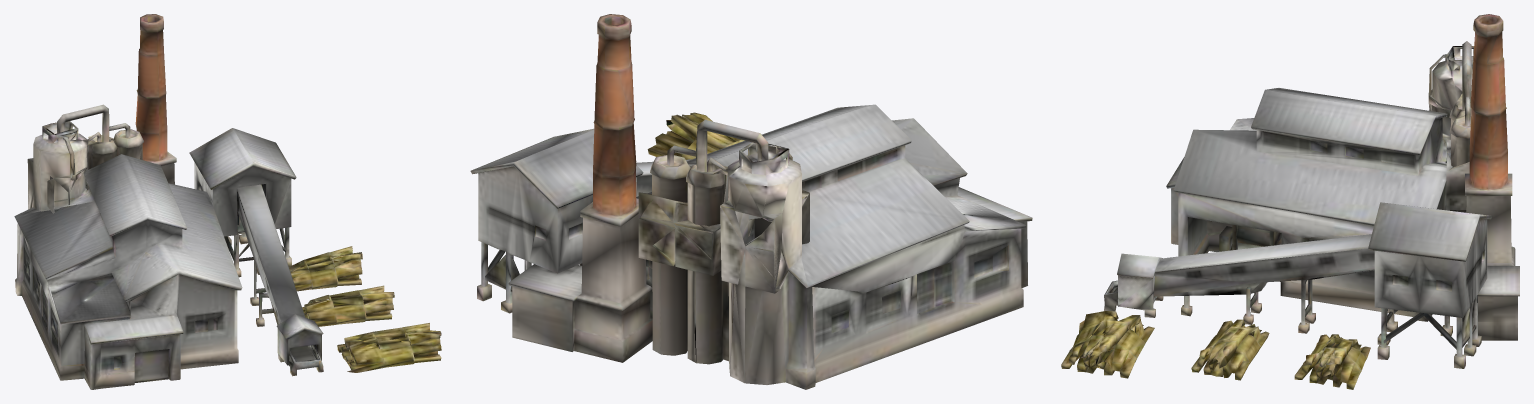
The model's file is sugar.glb.
3 renders of one model, left to right at view 1: azimuth 30°, elevation 25°; view 2: azimuth 150°, elevation 25°; view 3: azimuth 270°, elevation 25°, orthographic. The views are drawn at different scales.
Visible parts, largest first — view 1: sugar; view 2: sugar; view 3: sugar.
Boxes of the visible parts, bbox=[...] form: sugar: bbox=[14, 14, 441, 389]; sugar: bbox=[470, 14, 1032, 389]; sugar: bbox=[1061, 14, 1519, 389].
Bounding box in the file's own units: 1 × 0.6687 × 0.9724.
1 material, 1 textured.
